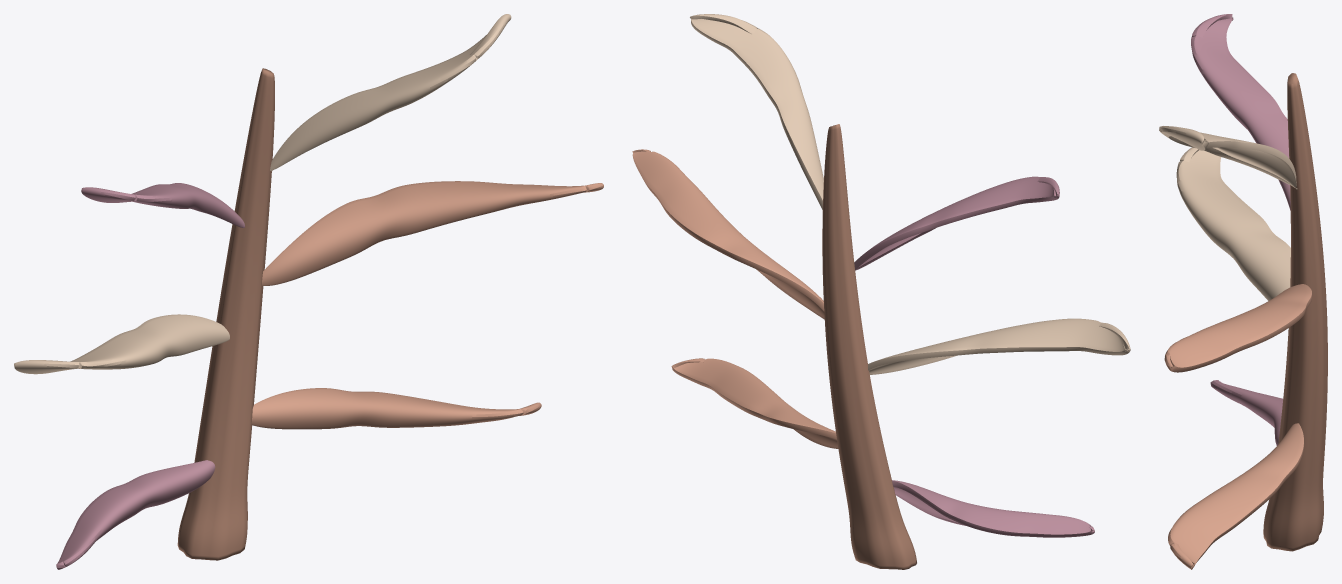
File: undertow-kelp-standard.glb
3 views of the same model, side by side, from view 1: azimuth 30°, elevation 25°; view 2: azimuth 150°, elevation 25°; view 3: azimuth 270°, elevation 25° (orthographic). The views are drawn at different scales.
Parts seen in each view (by area): view 1: continuous_bent_holdfast_and_stipe, middle_starboard, lower_starboard, crown_starboard, middle_larboard, lower_larboard, upper_larboard; view 2: continuous_bent_holdfast_and_stipe, middle_starboard, crown_starboard, middle_larboard, lower_starboard, lower_larboard, upper_larboard; view 3: continuous_bent_holdfast_and_stipe, middle_larboard, lower_starboard, upper_larboard, middle_starboard, crown_starboard, lower_larboard.
Part boxes in pixels (x1,y1,x2,y2): continuous_bent_holdfast_and_stipe: (177,68,274,560); middle_starboard: (261,181,603,285); lower_starboard: (251,388,541,429); crown_starboard: (270,14,511,171); middle_larboard: (14,314,229,374); lower_larboard: (56,460,215,569); upper_larboard: (81,183,244,227); continuous_bent_holdfast_and_stipe: (822,124,916,569); middle_starboard: (632,149,824,319); crown_starboard: (690,14,823,209); middle_larboard: (868,318,1130,374); lower_starboard: (671,358,838,448); lower_larboard: (892,480,1094,537); upper_larboard: (854,176,1059,270); continuous_bent_holdfast_and_stipe: (1263,73,1327,551); middle_larboard: (1176,147,1290,300); lower_starboard: (1168,423,1304,569); upper_larboard: (1191,14,1290,210); middle_starboard: (1164,284,1311,372); crown_starboard: (1159,126,1297,189); lower_larboard: (1210,380,1283,445).
Size of the model in its own units: 224 by 191 by 54.91.
